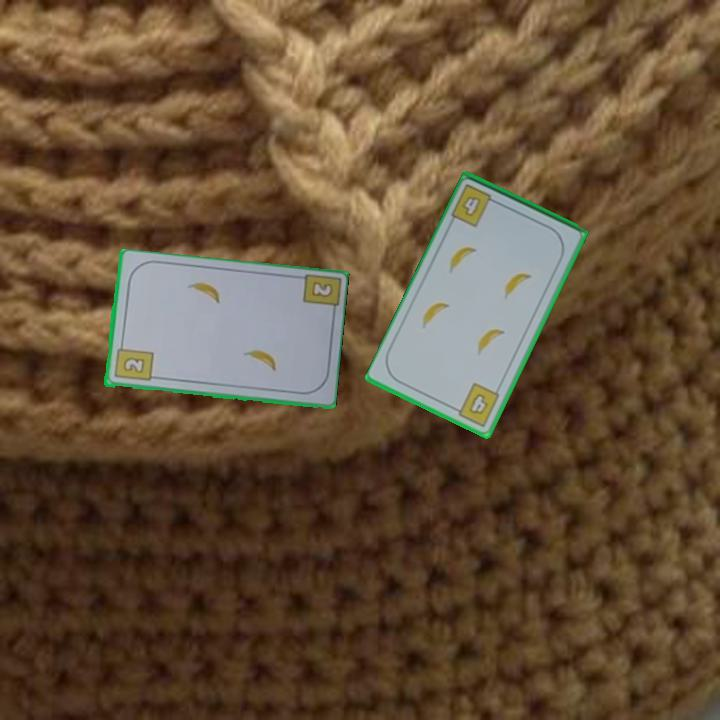2b: (111, 339, 155, 384), (308, 278, 336, 300)
4b: (449, 379, 503, 430), (448, 181, 502, 230)
